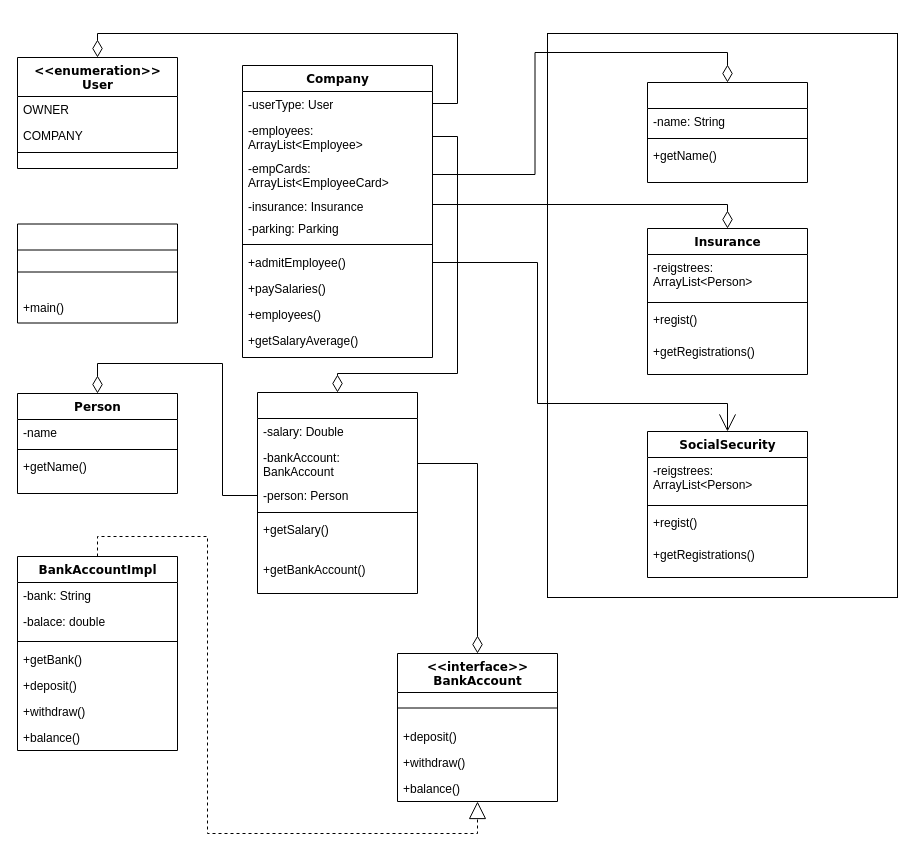
The diagram is 915 pixels wide and 868 high, and some of its shapes have lost their labels. The box of each missing label's shape, as (x1, y1, x2, y2) in pixels:
Employee: (256, 392, 418, 594)
EmployeeCard: (646, 82, 808, 182)
SharkCompany2: (16, 223, 178, 323)
